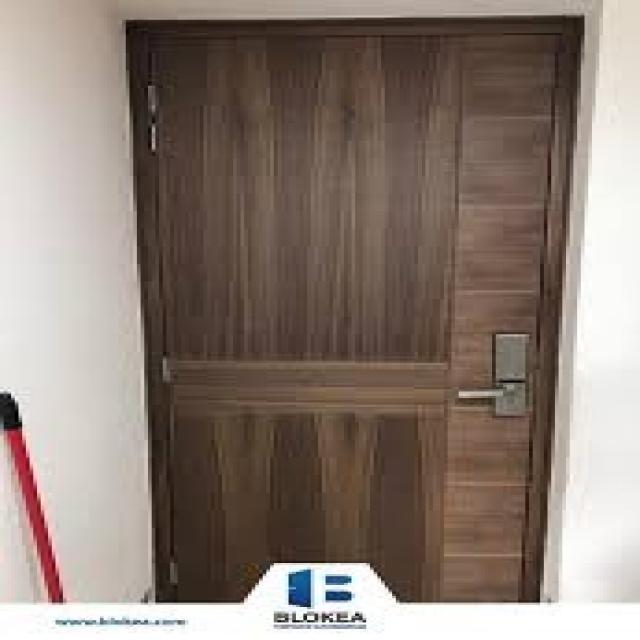door: (124, 16, 579, 604)
